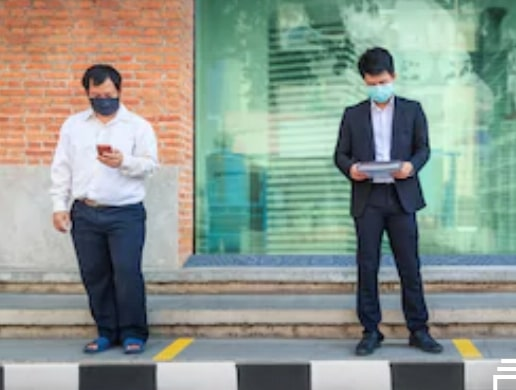Caution: (50, 45, 443, 359)
